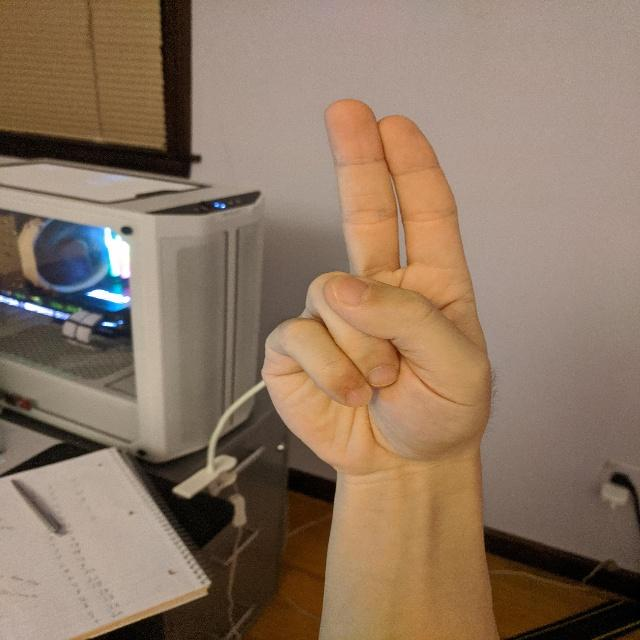U: (255, 92, 508, 478)
